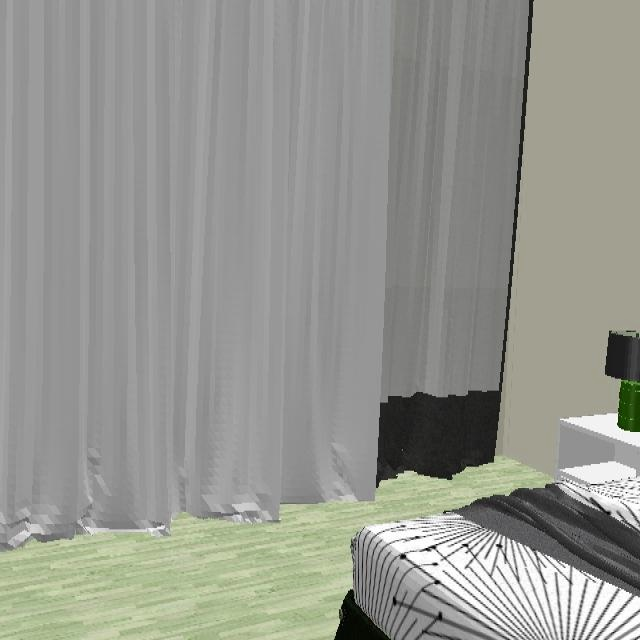bed: (334, 481, 640, 640)
lamp: (605, 331, 640, 433)
nighttable: (558, 413, 640, 479)
